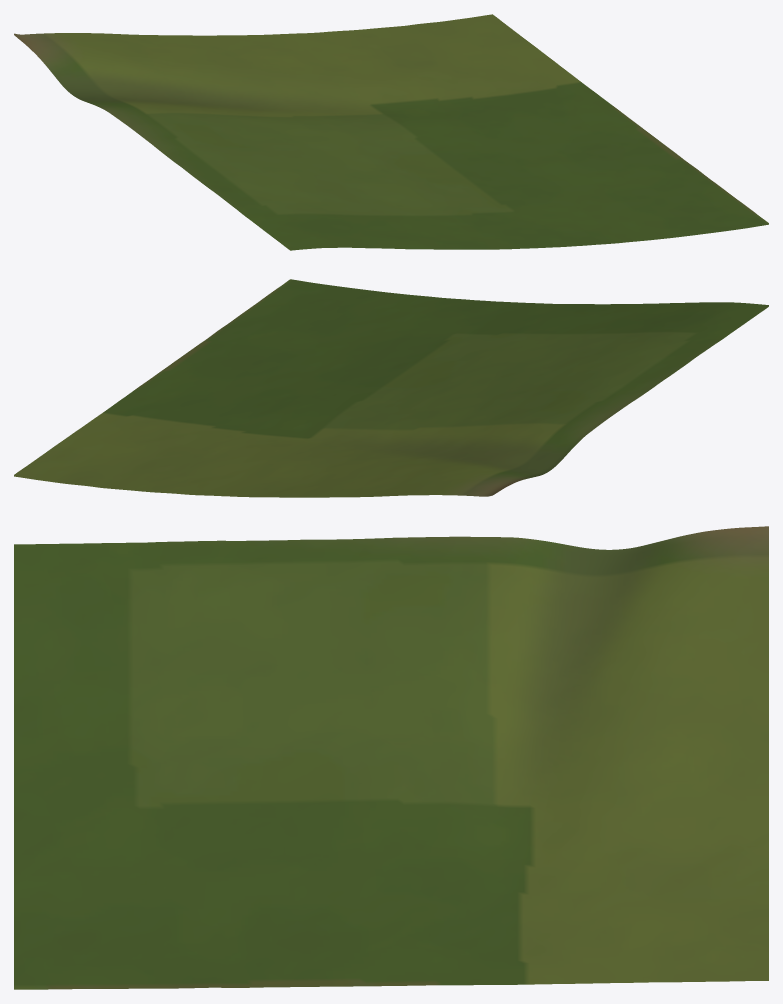
Rendered from land_n_00_03.glb.
The picture shows the model from 3 angles, top to bottom: view 1: azimuth 30°, elevation 25°; view 2: azimuth 150°, elevation 25°; view 3: azimuth 270°, elevation 25°; orthographic projection. The views are drawn at different scales.
Parts seen in each view (by area): view 1: land_n_00_03; view 2: land_n_00_03; view 3: land_n_00_03.
Boxes of the visible parts, <box> form: land_n_00_03: <box>14,14,768,250</box>; land_n_00_03: <box>14,279,768,497</box>; land_n_00_03: <box>14,526,768,989</box>.
Bounding box in the file's own units: 480 × 101 × 480.
